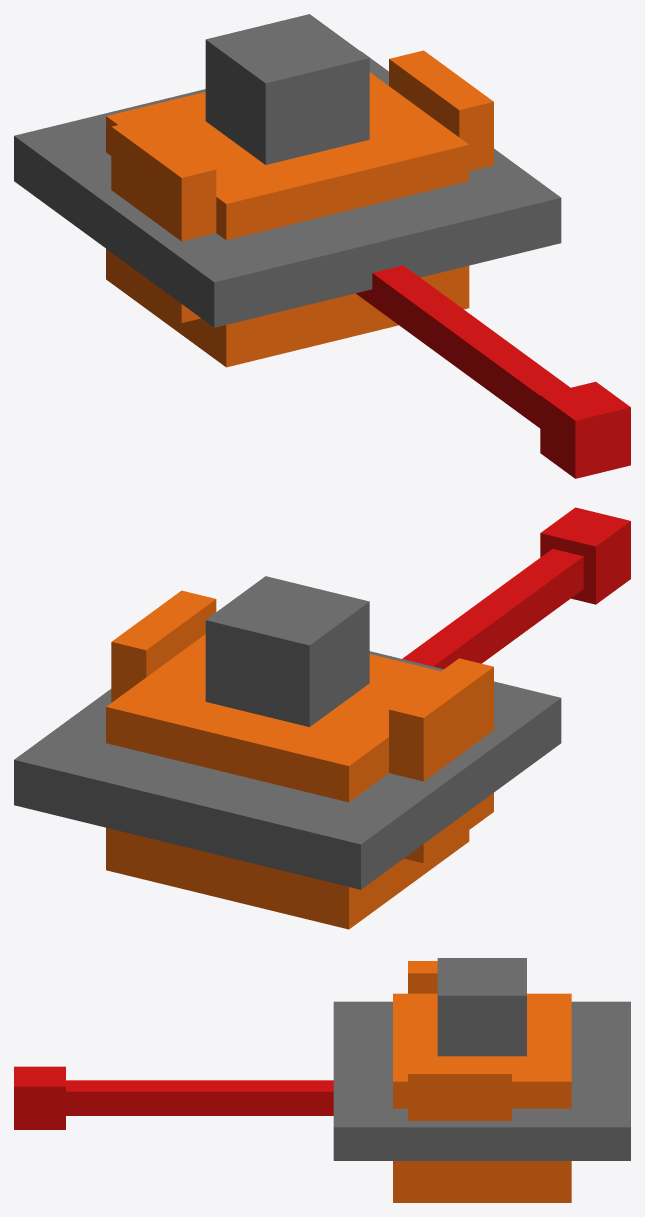
Rendered from placeholder.obj.
3 views of the same model, one above another, from view 1: azimuth 30°, elevation 25°; view 2: azimuth 150°, elevation 25°; view 3: azimuth 270°, elevation 25° (orthographic). The views are drawn at different scales.
Visible parts, largest first — view 1: stand, turret, barrel; view 2: stand, turret, barrel; view 3: stand, turret, barrel.
Boxes of the visible parts, x1,y1,x2,y2 form: stand: (14,14,561,327); turret: (106,50,493,367); barrel: (356,265,630,478); stand: (14,576,561,889); turret: (106,590,493,929); barrel: (402,507,630,668); stand: (333,958,630,1160); turret: (393,961,571,1202); barrel: (14,1066,333,1129).
Bounding box in the file's own units: 2 × 1.35 × 4.15.
